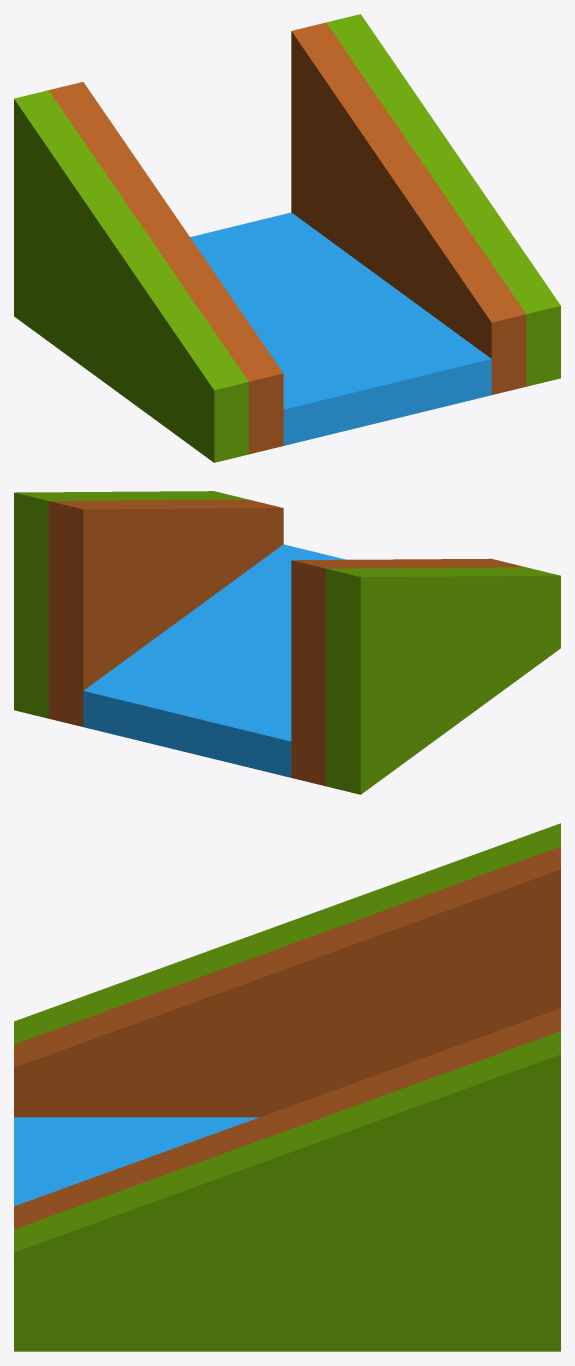
File: TileWater_23.fbx
The picture shows the model from 3 angles, top to bottom: view 1: azimuth 30°, elevation 25°; view 2: azimuth 150°, elevation 25°; view 3: azimuth 270°, elevation 25°; orthographic projection. The views are drawn at different scales.
Parts seen in each view (by area): view 1: TileWater_23; view 2: TileWater_23; view 3: TileWater_23.
Part boxes in pixels (<box>): TileWater_23: <box>14,14,560,462</box>; TileWater_23: <box>14,491,560,794</box>; TileWater_23: <box>14,823,560,1351</box>.
Size of the model in its own units: 500 by 300 by 500.
